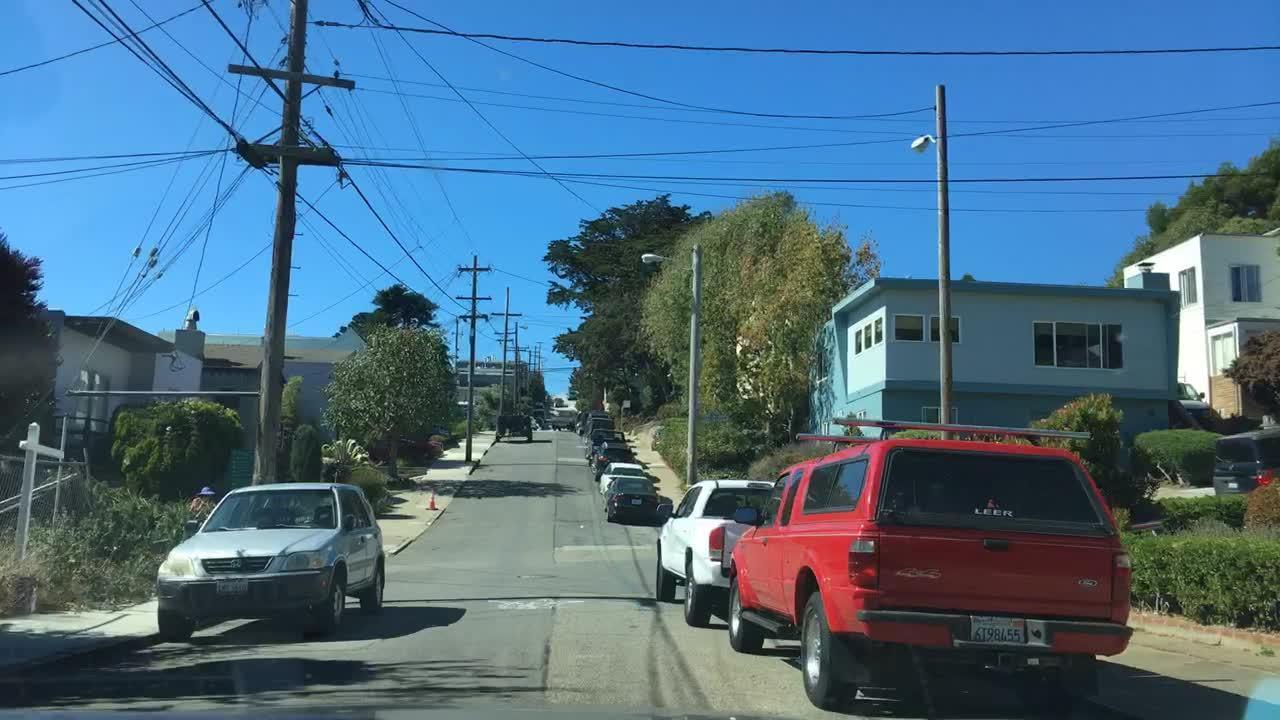ford: (1075, 573, 1101, 592)
